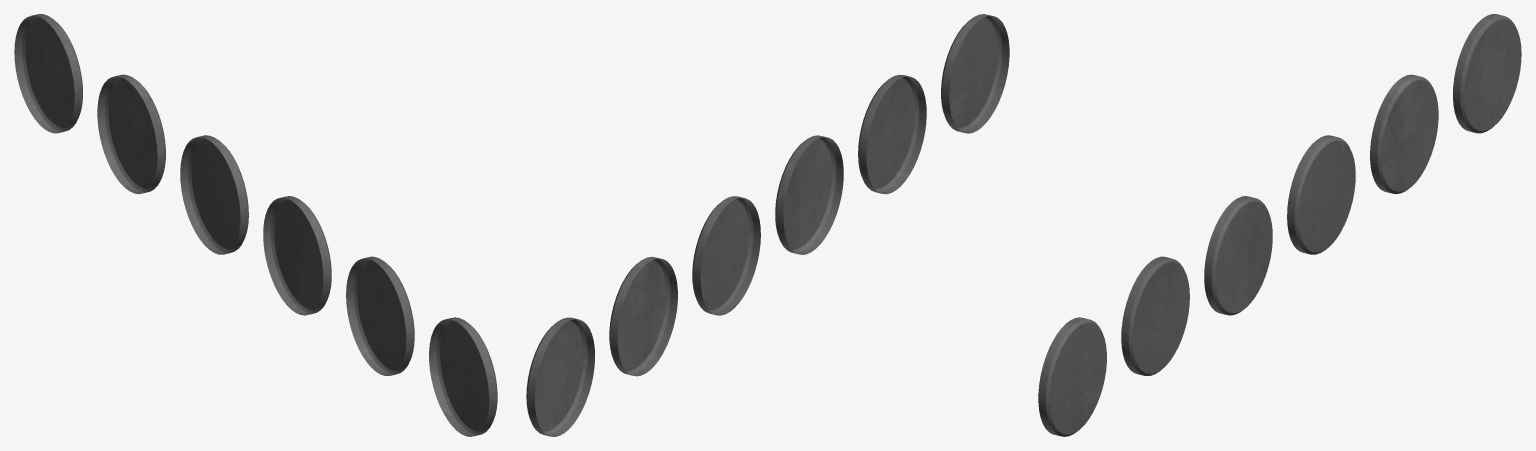
File: cP_Pathway03_SteppingStoneRound02_Comb01.dae
The picture shows the model from 3 angles, left to right: view 1: azimuth 30°, elevation 25°; view 2: azimuth 150°, elevation 25°; view 3: azimuth 330°, elevation 25°; orthographic projection.
Visible parts, largest first — view 1: cP_Pathway03_SteppingStoneRound02_Comb01.001; view 2: cP_Pathway03_SteppingStoneRound02_Comb01.001; view 3: cP_Pathway03_SteppingStoneRound02_Comb01.001.
Boxes of the visible parts, x1,y1,x2,y2 form: cP_Pathway03_SteppingStoneRound02_Comb01.001: (14,14,497,436); cP_Pathway03_SteppingStoneRound02_Comb01.001: (526,14,1009,436); cP_Pathway03_SteppingStoneRound02_Comb01.001: (1038,14,1521,436).
Bounding box in the file's own units: 0.0521 × 4.29 × 0.5457.
